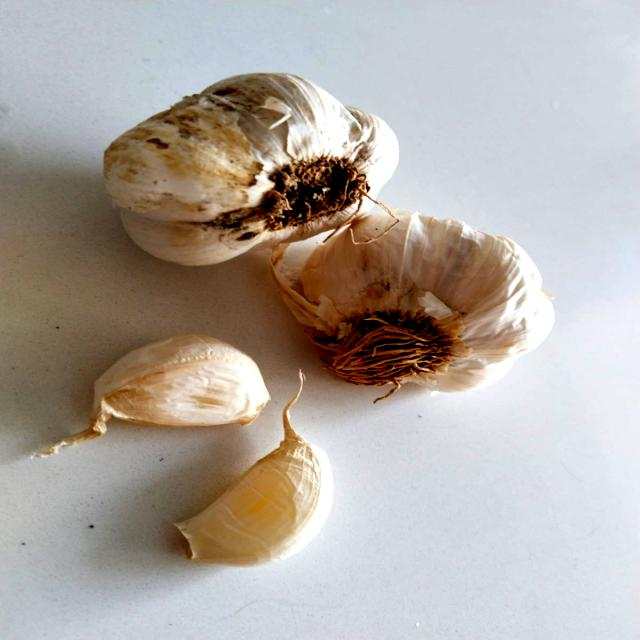garlic: (98, 48, 390, 256), (299, 208, 557, 400), (125, 414, 375, 572), (42, 326, 302, 427)
